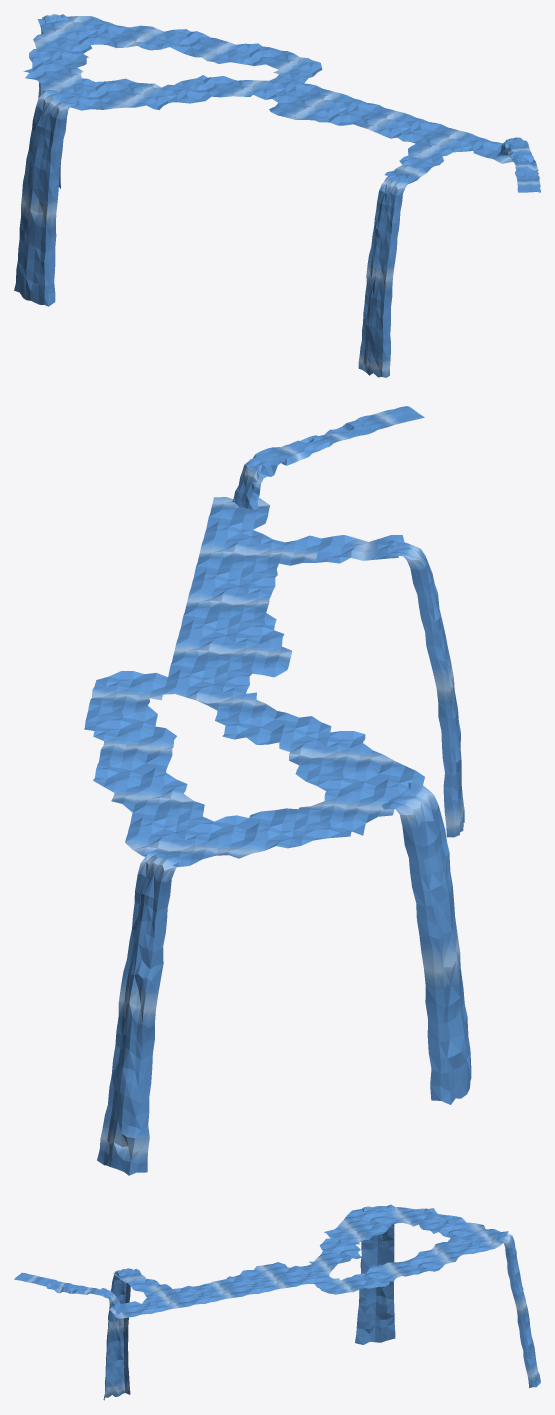
Rendered from GEO_hightown_river_static_5.fbx.
3 views of the same model, one above another, from view 1: azimuth 30°, elevation 25°; view 2: azimuth 150°, elevation 25°; view 3: azimuth 270°, elevation 25° (orthographic). The views are drawn at different scales.
Parts seen in each view (by area): view 1: river_tiles, waterfall_1, waterfall_2, small_waterfall_1; view 2: river_tiles, waterfall_1, waterfall_3, waterfall_2, small_waterfall_1; view 3: river_tiles, waterfall_1, waterfall_2, waterfall_3, small_waterfall_1.
Boxes of the visible parts, box(x1,y1,x2,y2) form: river_tiles: box(23, 16, 512, 184); waterfall_1: box(14, 90, 76, 306); waterfall_2: box(358, 174, 413, 377); small_waterfall_1: box(497, 137, 540, 192); river_tiles: box(84, 497, 424, 866); waterfall_1: box(381, 782, 471, 1104); waterfall_3: box(97, 851, 183, 1175); waterfall_2: box(386, 539, 464, 837); small_waterfall_1: box(232, 406, 424, 509); river_tiles: box(109, 1206, 508, 1318); waterfall_1: box(355, 1204, 395, 1344); waterfall_2: box(103, 1268, 134, 1400); waterfall_3: box(497, 1232, 540, 1387); small_waterfall_1: box(14, 1272, 122, 1314).
Bounding box in the file's own units: 2.53 × 1.55 × 4.54.
